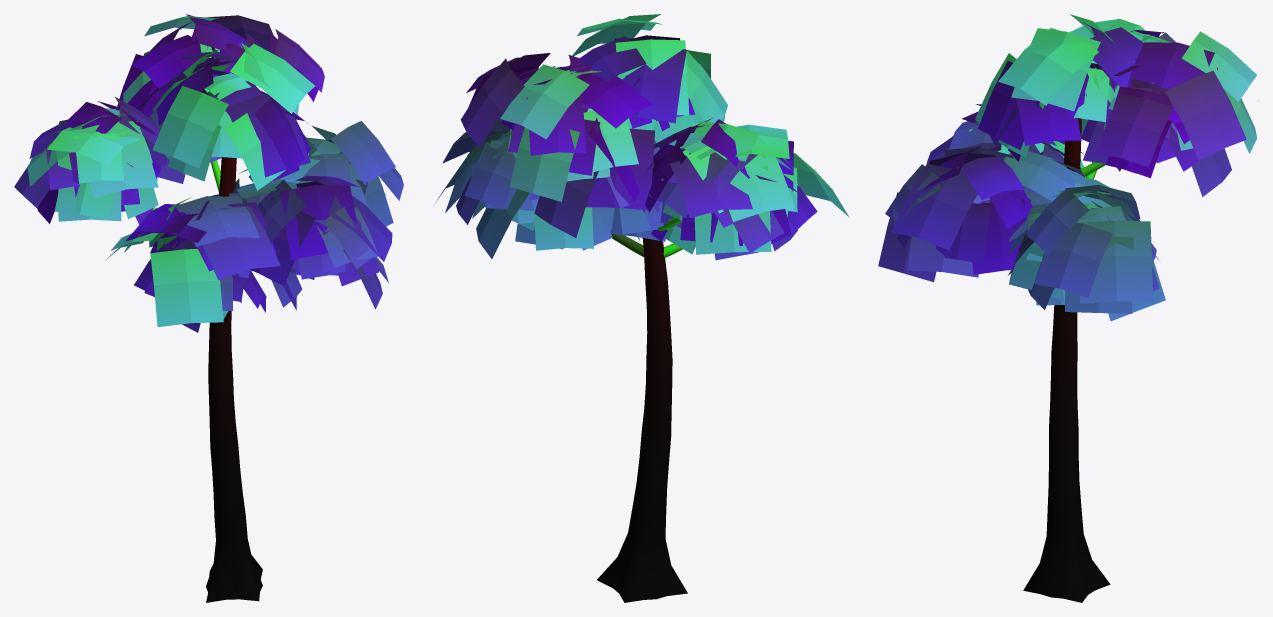
File: Jungle5.fbx
3 renders of one model, left to right at view 1: azimuth 30°, elevation 25°; view 2: azimuth 150°, elevation 25°; view 3: azimuth 270°, elevation 25°, orthographic. The views are drawn at different scales.
Visible parts, largest first — view 1: Jungle5; view 2: Jungle5; view 3: Jungle5.
Part boxes in pixels (bbox=[...]): Jungle5: bbox=[14, 14, 403, 602]; Jungle5: bbox=[434, 14, 849, 602]; Jungle5: bbox=[878, 14, 1256, 602].
Bounding box in the file's own units: 16.93 × 24.63 × 15.04.
